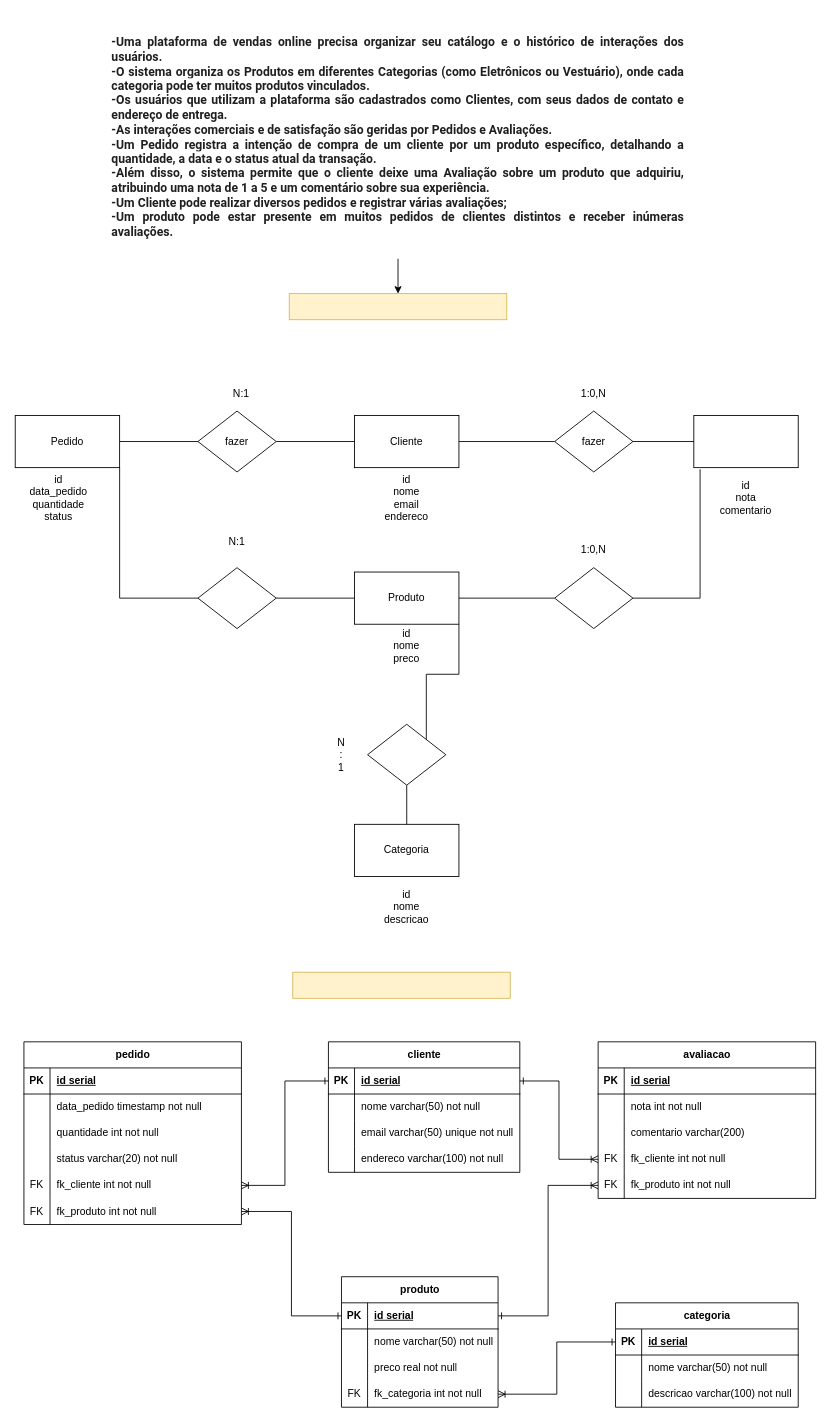
Some shapes in this 831 by 1422 pixel diagram are drawn without their labels. The shapes that lost their labels are listed below. From the top down, each one's centre as x and y in pixels, then its label:
At point (397, 306): "MODELAGEM CONCEITUAL".
At point (745, 441): "Avaliação".
At point (236, 598): "estar".
At point (593, 598): "receber".
At point (406, 754): "ter".
At point (401, 984): "MODELAGEM LÓGICA".
